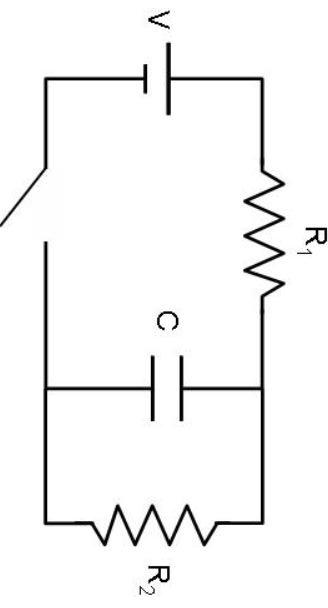Capacitor: (114, 335, 199, 426)
